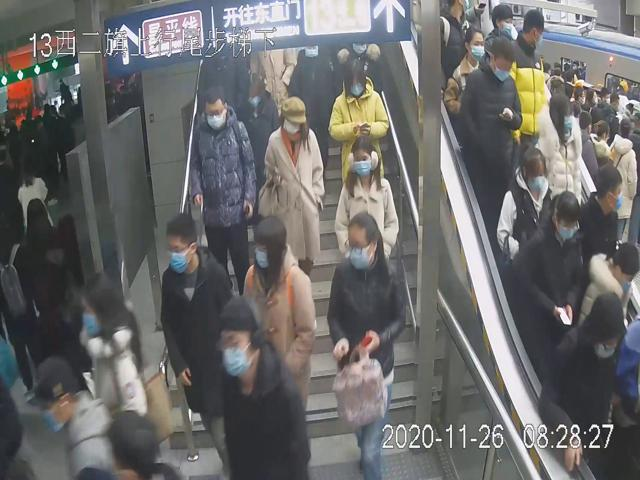person: (324, 210, 407, 480), (161, 209, 240, 479), (240, 214, 316, 454), (190, 82, 258, 301), (259, 92, 327, 304), (505, 189, 588, 361), (456, 33, 526, 225), (329, 133, 403, 282), (325, 51, 390, 197), (493, 148, 556, 284)
